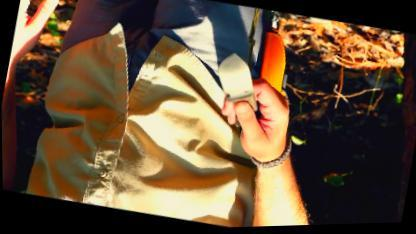knife: (201, 43, 303, 147)
